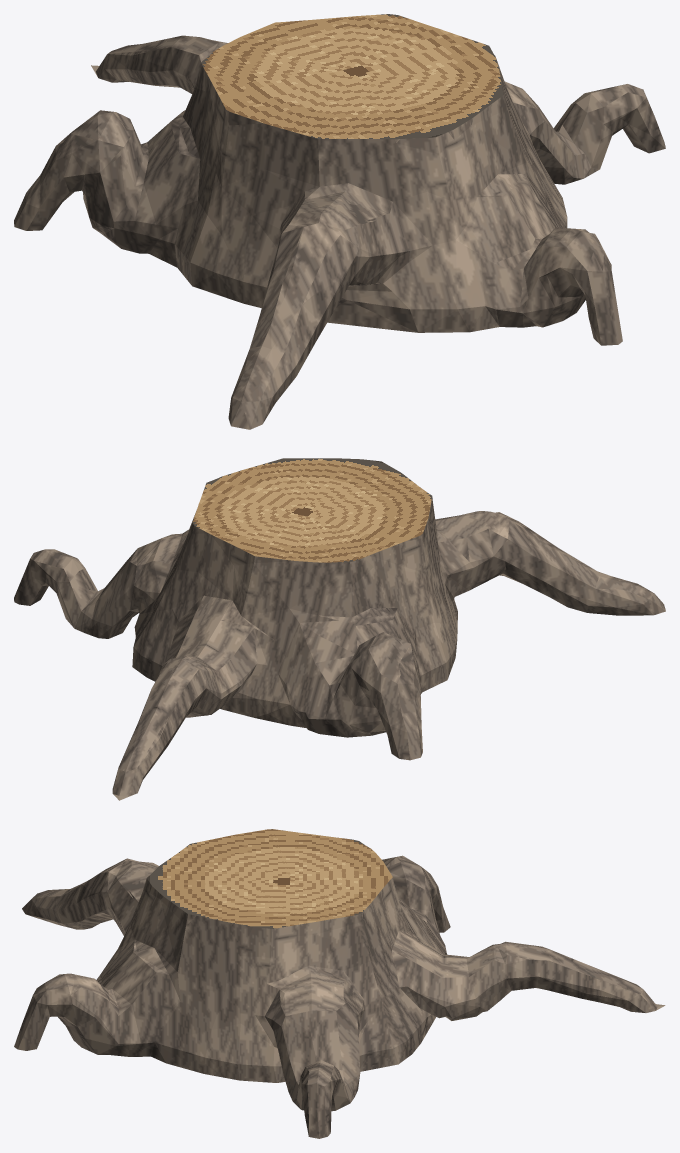
The model's file is environment_elm2_stump_v76.fbx.
The picture shows the model from 3 angles, top to bottom: view 1: azimuth 30°, elevation 25°; view 2: azimuth 150°, elevation 25°; view 3: azimuth 270°, elevation 25°; orthographic projection. The views are drawn at different scales.
Parts seen in each view (by area): view 1: environment_elm2_stump_v76; view 2: environment_elm2_stump_v76; view 3: environment_elm2_stump_v76.
Part boxes in pixels (<box>): environment_elm2_stump_v76: <box>14,14,665,429</box>; environment_elm2_stump_v76: <box>14,458,665,800</box>; environment_elm2_stump_v76: <box>14,829,665,1138</box>.
Size of the model in its own units: 439 by 115 by 516.
2 materials, 2 textured.
